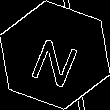N_N: (25, 24, 85, 86)
